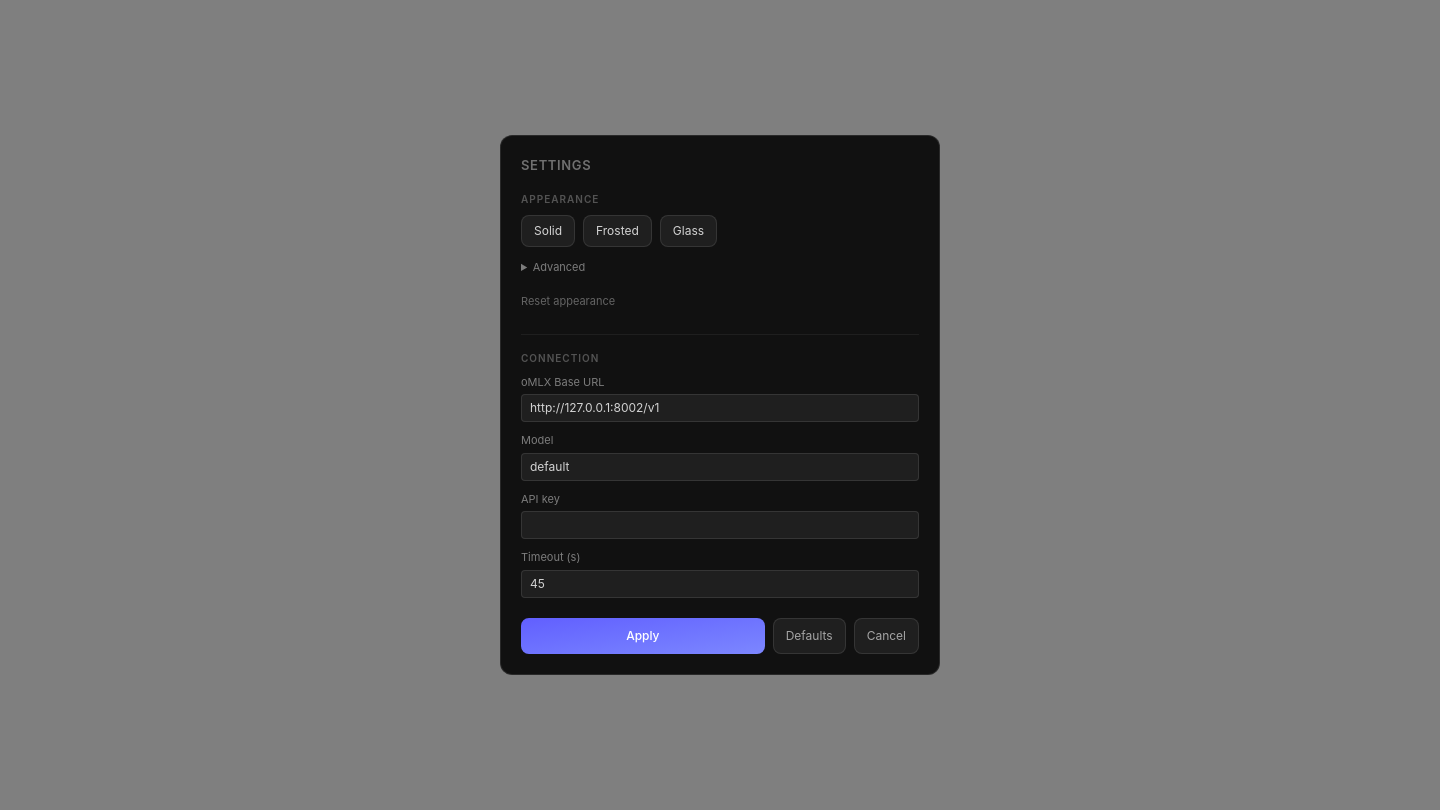
Test case: SettingsPanel › warns when a non-loopback host is entered
Replace the text in the field labelled "oMLX Base URL" with "http://192.168.1.50:8002/v1" at (720, 408), box x1=521 y1=394 x2=919 y2=422
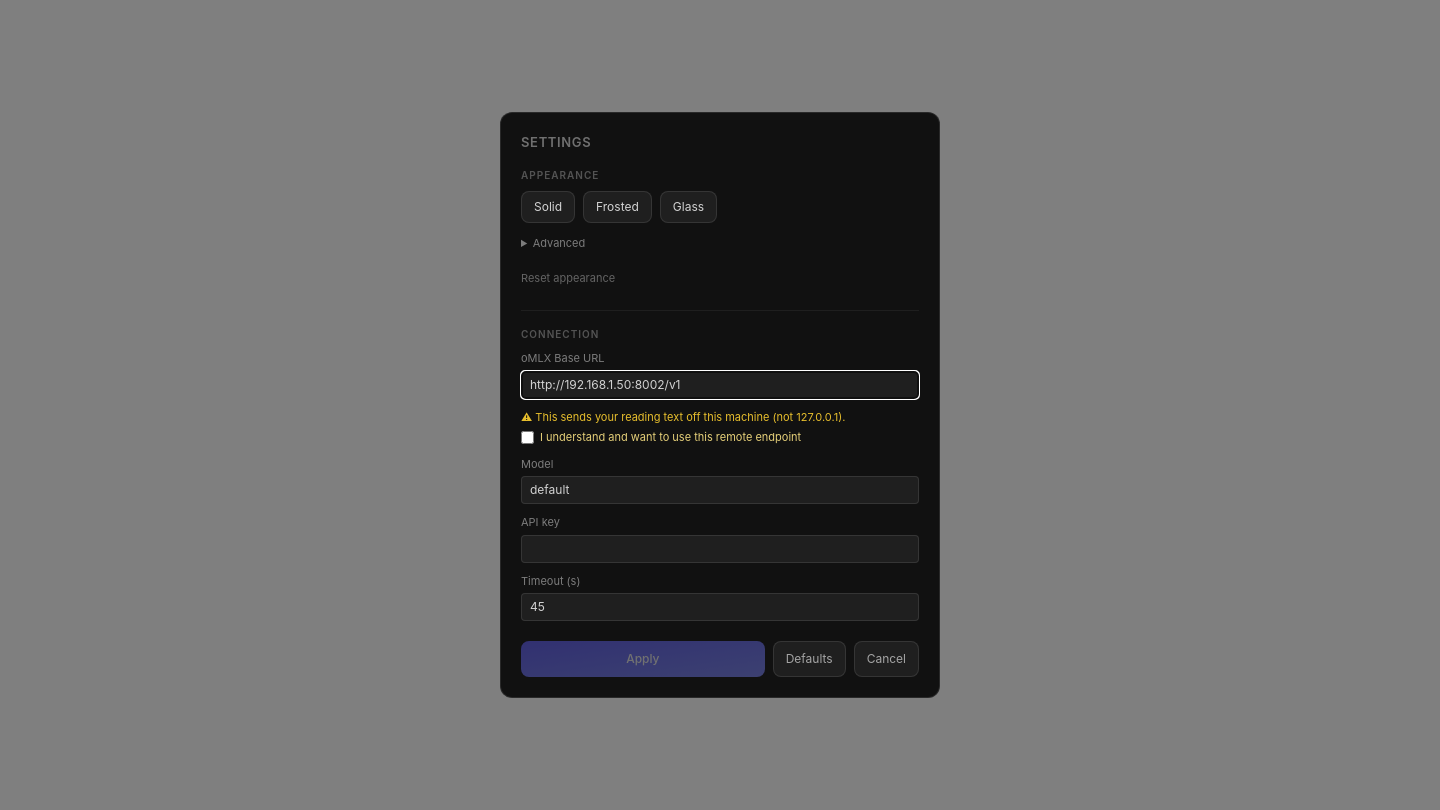
Check: the text "sends your reading text off this machine" is shown, box x1=521 y1=410 x2=845 y2=424
